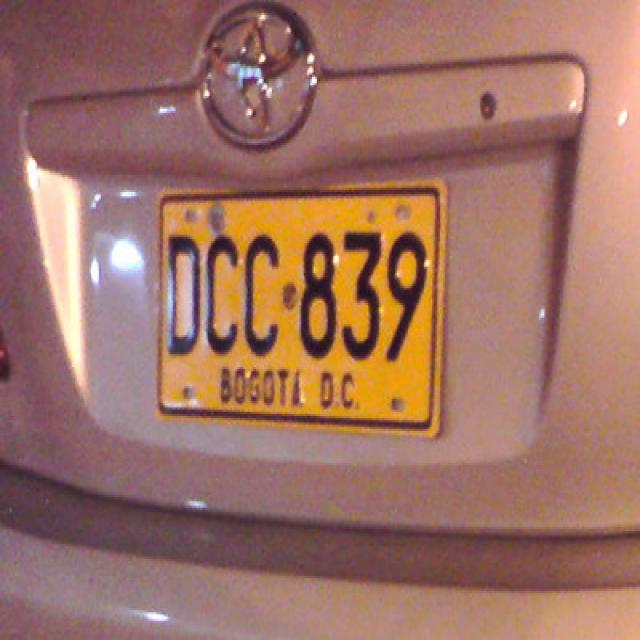placa_carro: (144, 170, 453, 438)
